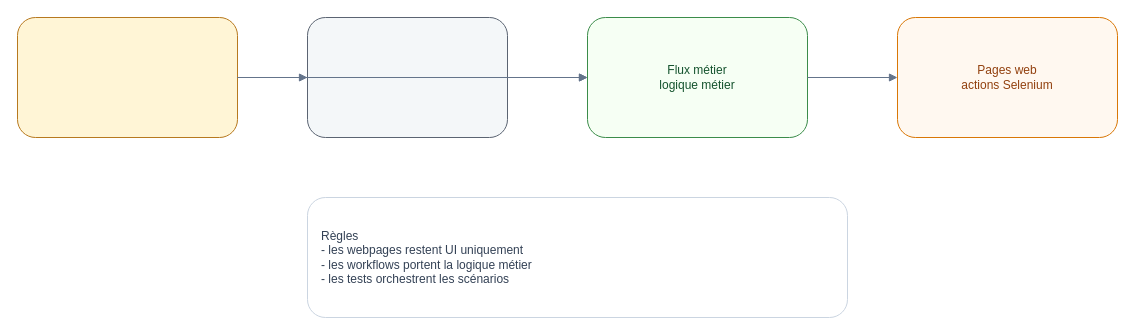
The diagram is 1135 pixels wide and 335 high, and some of its shapes have lost their labels. The box of each missing label's shape, as (x1, y1, x2, y2) in pixels:
TESTS orchestration: (306, 16, 508, 138)
Variables serveur - données de test - configuration - valeurs partagées: (16, 16, 238, 138)
